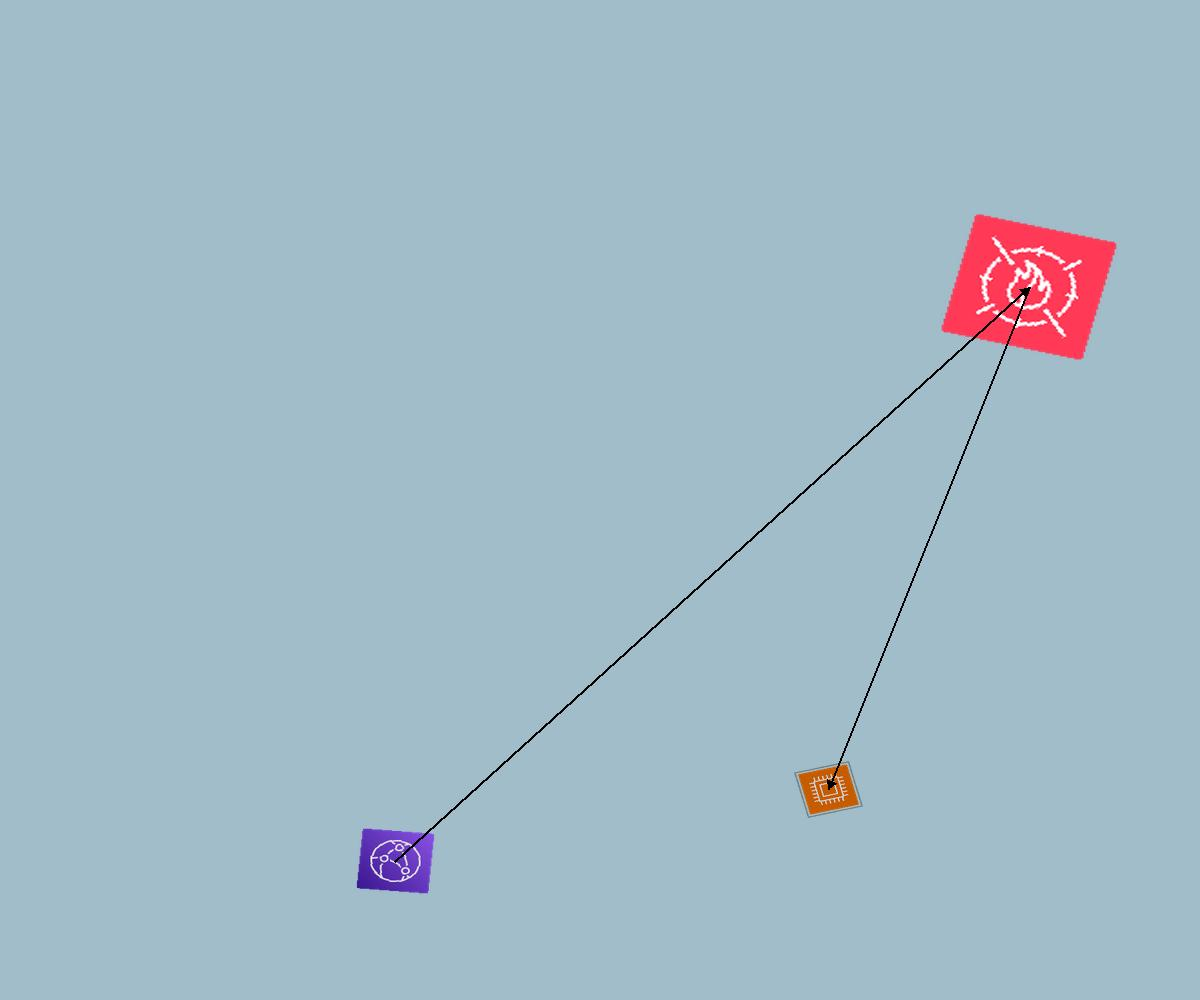AWS-Category_Compute: (794, 761, 863, 818)
AWS-CloudFront: (356, 828, 435, 894)
AWS-WAF: (940, 213, 1118, 361)
